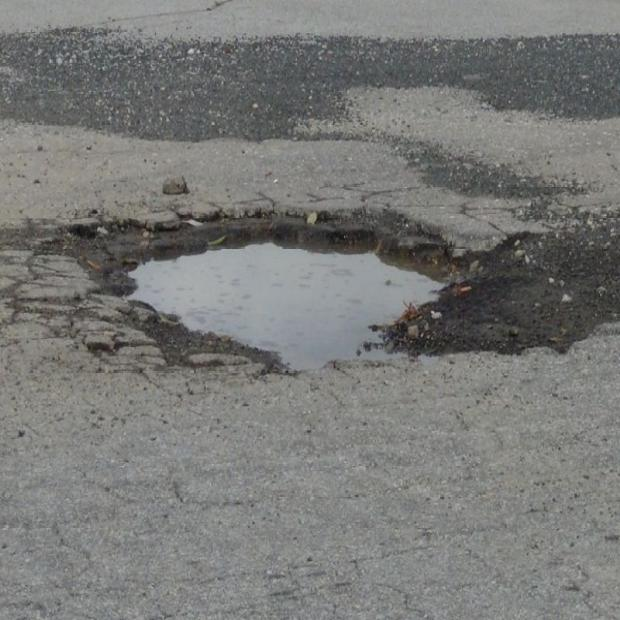lubang: (89, 211, 480, 368)
